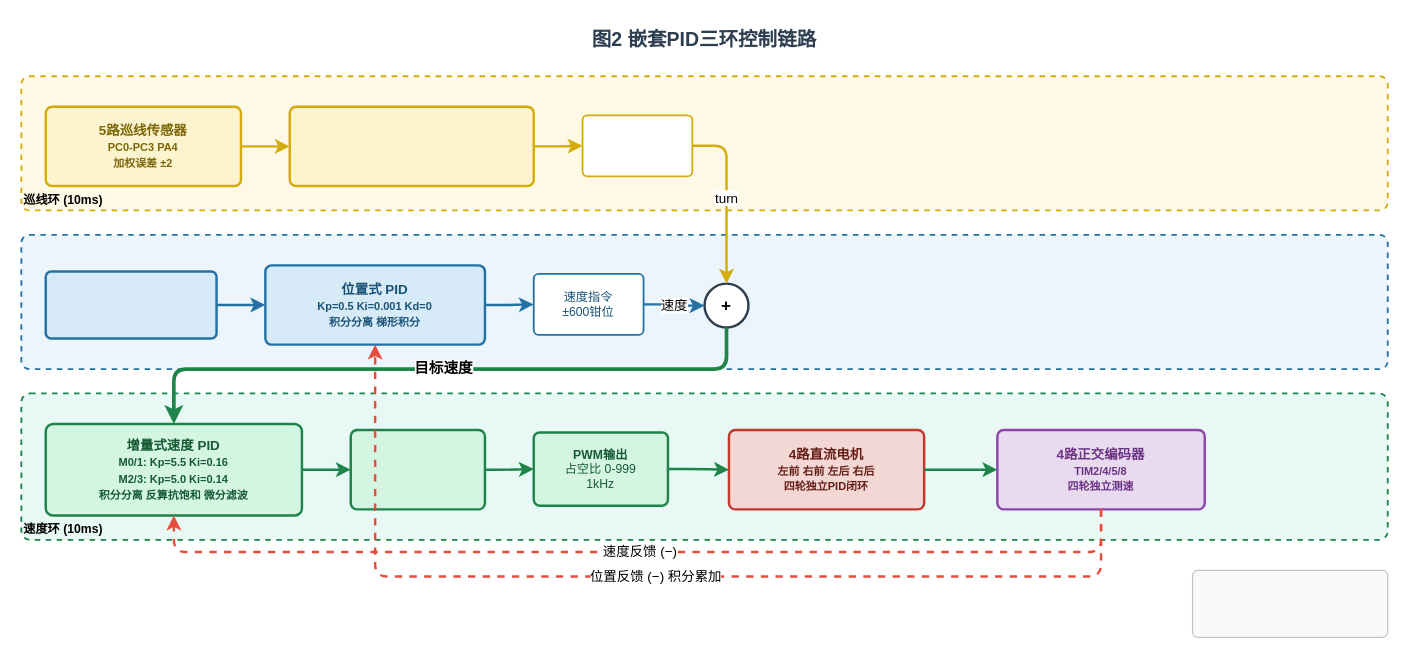
Some shapes in this 1410 by 659 pixel diagram are drawn without their labels. The shapes that lost their labels are listed below. From the top down, each one's centre as x and y in pixels, then its label:
At (411,146): "巡线 PID Kp=180 Ki=2.0 Kd=2.0 死区±0.1 积分分离 EMA微分".
At (637,145): "转向修正 ±600钳位".
At (130,304): "目标位置 编码器脉冲数".
At (417,469): "方向映射 motor_dir {1,-1,1,-1}".
At (1289,603): "图例 实线：指令/速度 虚线：编码器反馈 Kp/Ki/Kd：比例/积分/微分增益".
